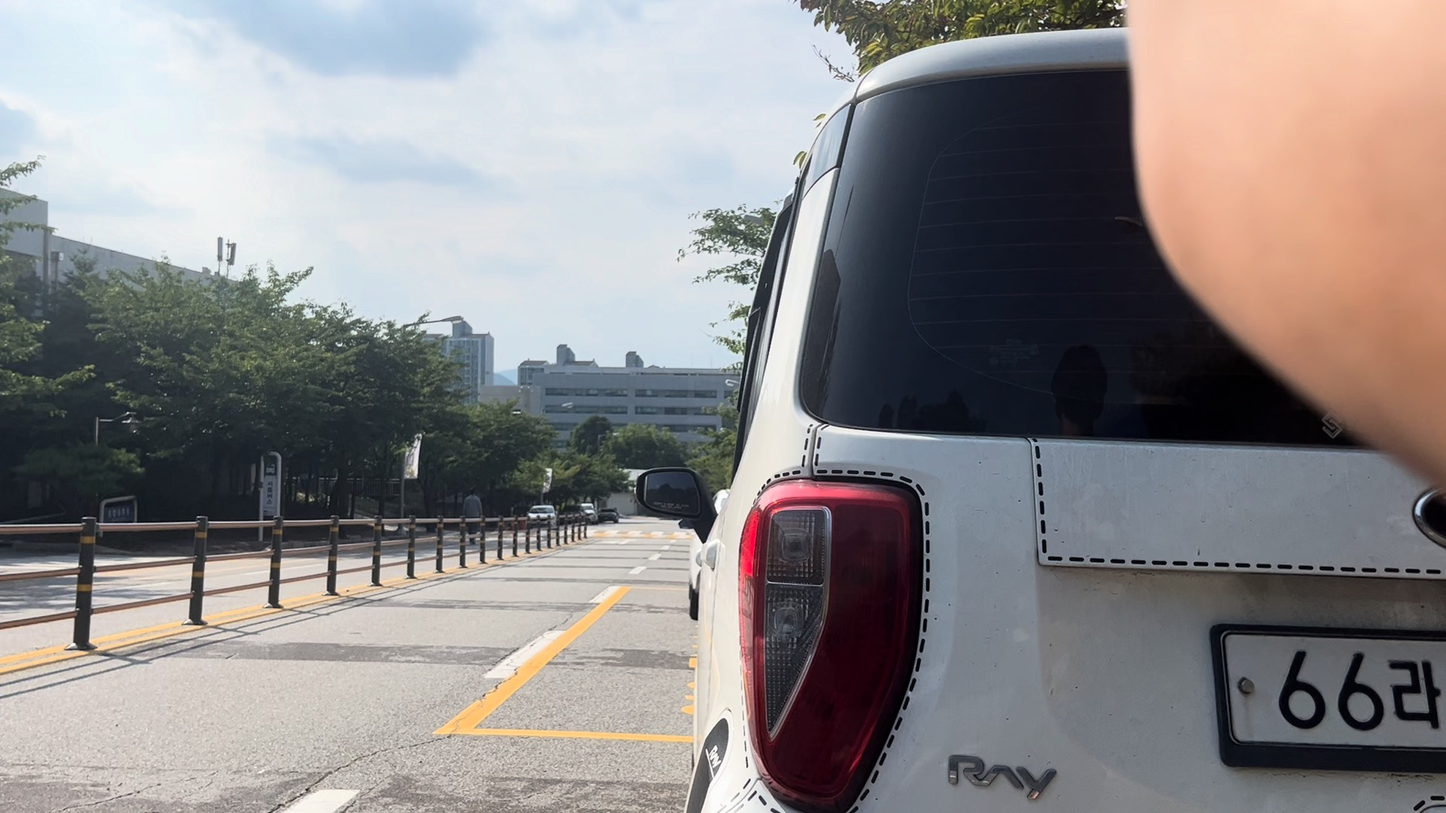license_plate: (1212, 625, 1445, 772)
side_mirror: (636, 469, 704, 520)
tail_light: (740, 480, 922, 812)
